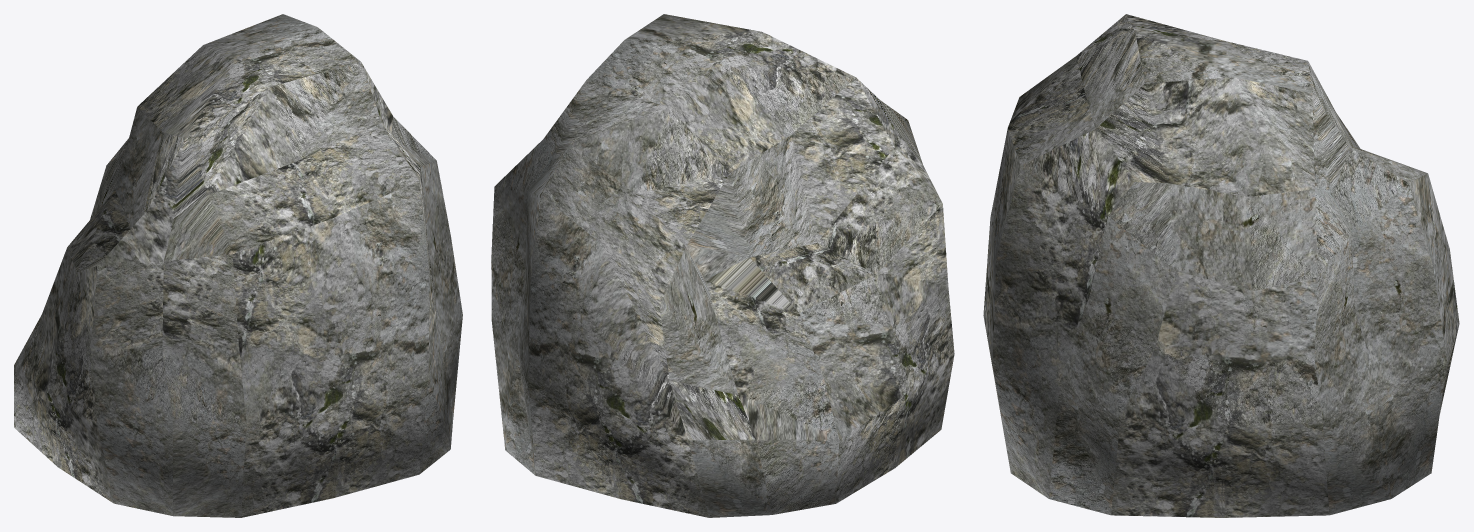
The model's file is UWRock1.fbx.
3 views of the same model, side by side, from view 1: azimuth 30°, elevation 25°; view 2: azimuth 150°, elevation 25°; view 3: azimuth 270°, elevation 25° (orthographic). The views are drawn at different scales.
Visible parts, largest first — view 1: UWRock1; view 2: UWRock1; view 3: UWRock1.
Part boxes in pixels (x1,y1,x2,y2): UWRock1: [14, 14, 462, 517]; UWRock1: [491, 14, 954, 517]; UWRock1: [983, 14, 1459, 517].
Size of the model in its own units: 501 by 471 by 512.
